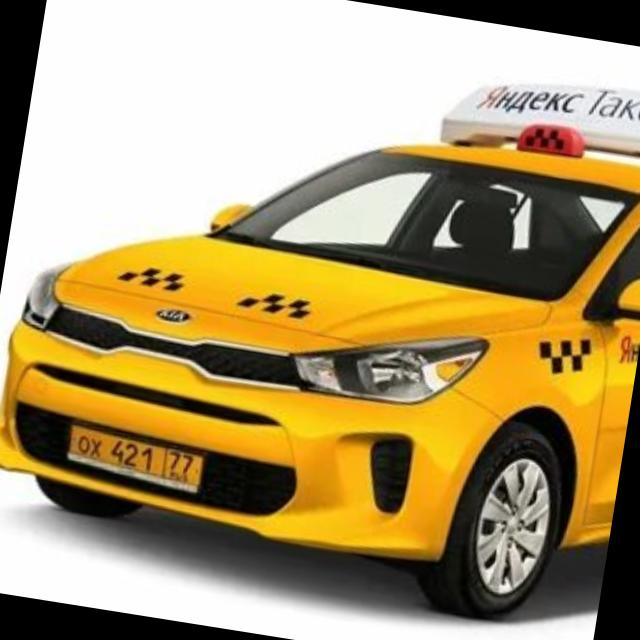taxi: (1, 1, 640, 638)
